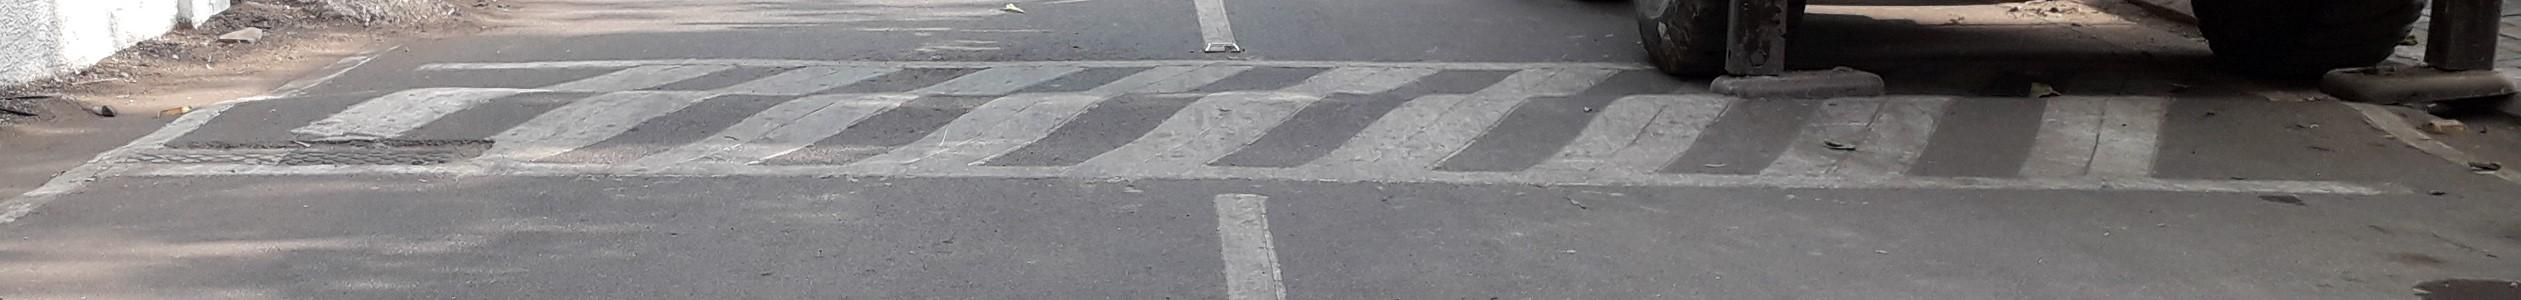speed-bump: (114, 56, 2446, 174)
